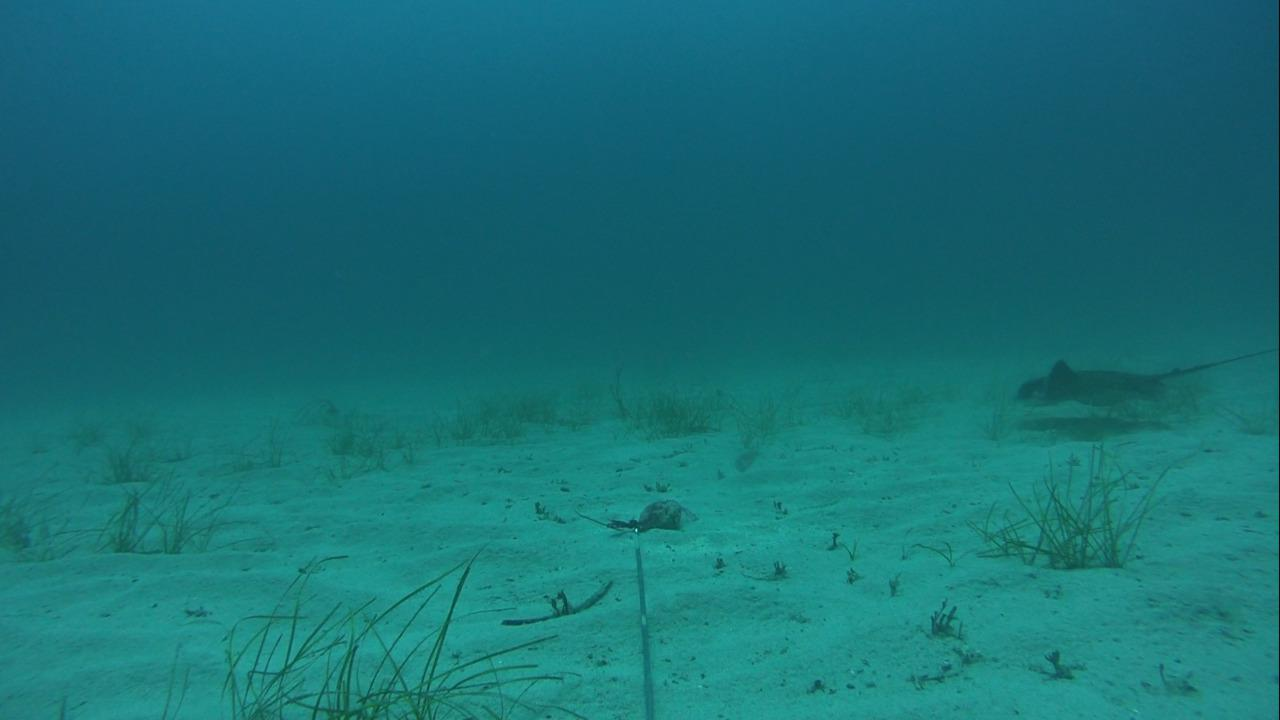myliobatis: (1011, 343, 1279, 406)
raor: (721, 438, 774, 475)
